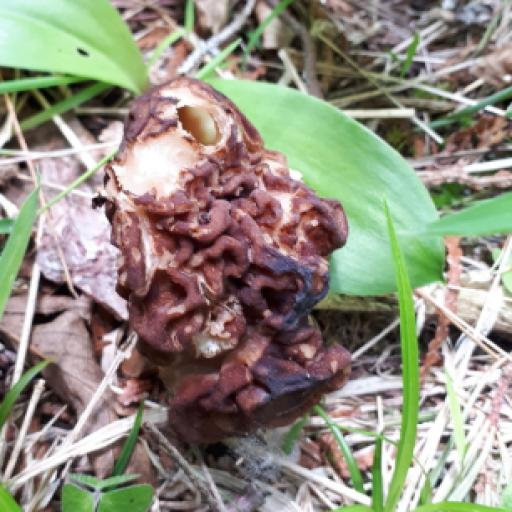False Morel: (82, 59, 371, 420)
